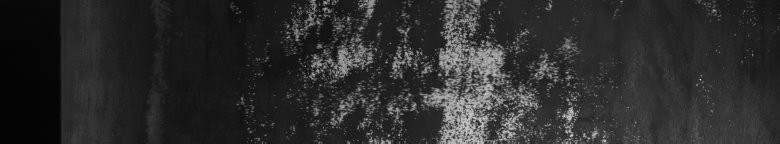kb: (292, 4, 637, 136)
